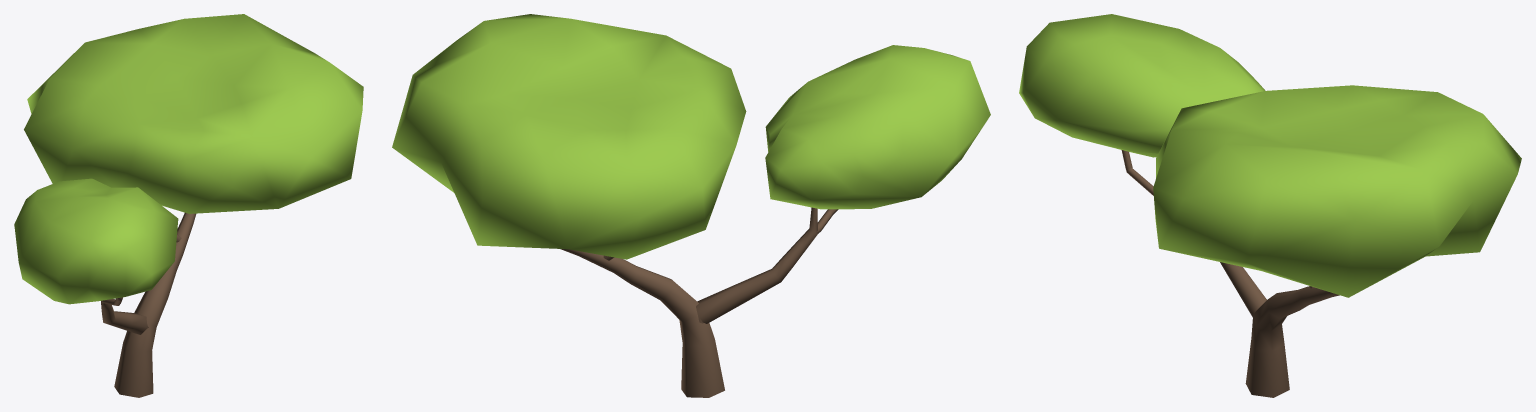
File: tree_4.fbx
3 renders of one model, left to right at view 1: azimuth 30°, elevation 25°; view 2: azimuth 150°, elevation 25°; view 3: azimuth 270°, elevation 25°, orthographic. The views are drawn at different scales.
Visible parts, largest first — view 1: Tube; view 2: Tube; view 3: Tube.
Part boxes in pixels (x1,y1,x2,y2): Tube: [14, 14, 363, 397]; Tube: [392, 14, 990, 397]; Tube: [1019, 14, 1521, 397].
Size of the model in its own units: 260 by 182 by 255.
